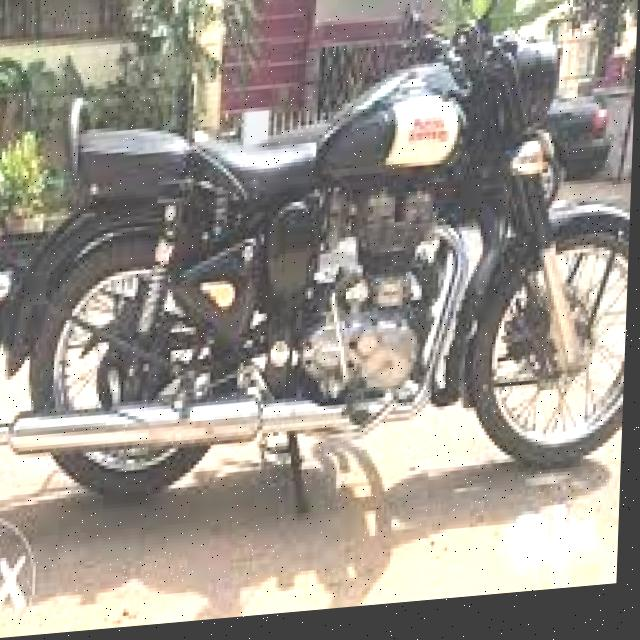bike: (0, 0, 639, 531)
